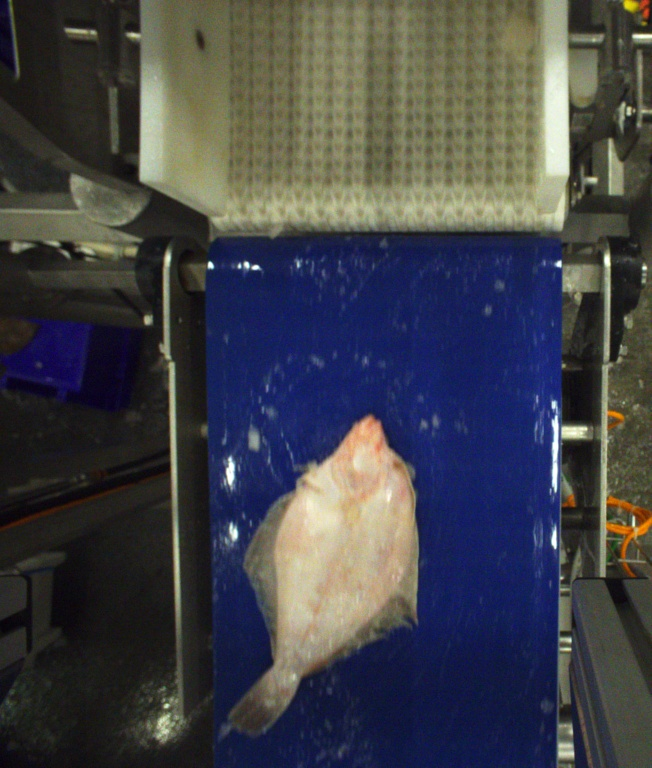PLE: (228, 415, 421, 733)
